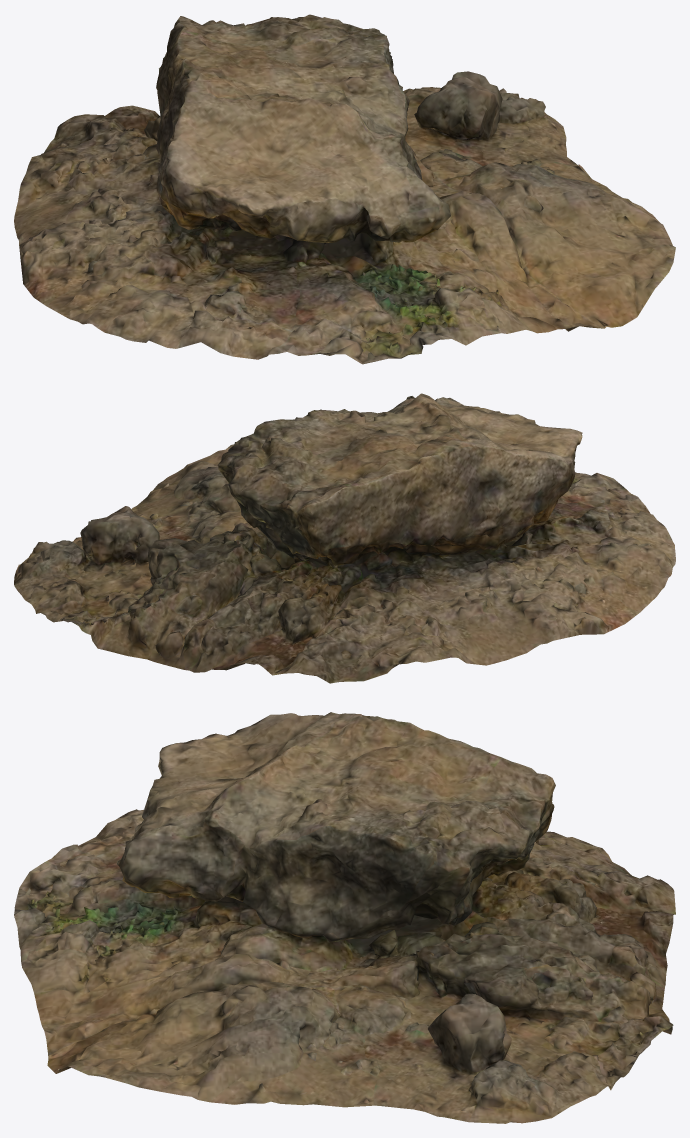
The model's file is lakeshore-rock.glb.
3 renders of one model, top to bottom at view 1: azimuth 30°, elevation 25°; view 2: azimuth 150°, elevation 25°; view 3: azimuth 270°, elevation 25°, orthographic. The views are drawn at different scales.
Parts seen in each view (by area): view 1: coast_rocks_05; view 2: coast_rocks_05; view 3: coast_rocks_05.
Part boxes in pixels (<box>): coast_rocks_05: <box>14,14,675,364</box>; coast_rocks_05: <box>14,393,675,683</box>; coast_rocks_05: <box>14,712,675,1123</box>.
Size of the model in its own units: 4.04 by 1.33 by 3.75.
1 material, 1 textured.
